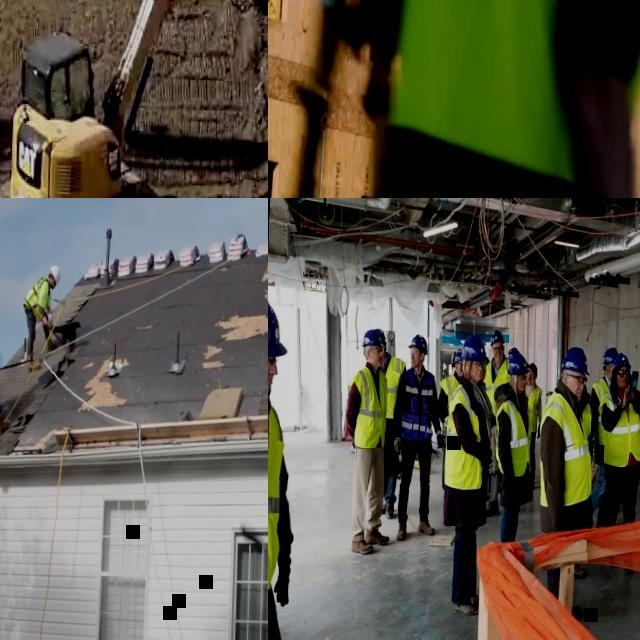Hardhat: (268, 291, 288, 356), (562, 346, 591, 374), (462, 334, 489, 362), (508, 352, 529, 376), (407, 332, 428, 353), (612, 350, 632, 372), (362, 329, 384, 346), (602, 346, 618, 365), (489, 330, 504, 346), (50, 266, 61, 284), (526, 362, 538, 378), (453, 349, 463, 363), (375, 328, 385, 339), (506, 346, 518, 355)
NO-Mask: (571, 386, 581, 401), (471, 370, 483, 381), (618, 378, 628, 388), (373, 355, 382, 366), (268, 371, 272, 394), (493, 353, 503, 362), (410, 359, 420, 367), (518, 384, 526, 392), (457, 368, 463, 376), (526, 373, 530, 379)
Person: (374, 0, 640, 198), (268, 289, 330, 640), (533, 344, 600, 623), (439, 332, 501, 616), (387, 331, 449, 543), (341, 327, 396, 555), (595, 350, 640, 572), (491, 352, 541, 541), (369, 328, 408, 520), (478, 330, 511, 518), (586, 346, 619, 526), (19, 265, 61, 371), (434, 350, 462, 490), (522, 361, 542, 488), (0, 291, 12, 446), (579, 386, 593, 439), (506, 345, 518, 367)
Safety Vest: (376, 0, 640, 198), (536, 389, 595, 507), (443, 384, 485, 491), (268, 401, 286, 595), (596, 389, 640, 468), (348, 364, 388, 448), (493, 399, 534, 477), (401, 366, 435, 442), (483, 357, 509, 416), (383, 355, 406, 417), (436, 374, 459, 436), (589, 378, 611, 442), (22, 275, 51, 318), (526, 386, 542, 434)
machinery: (0, 0, 268, 198)
